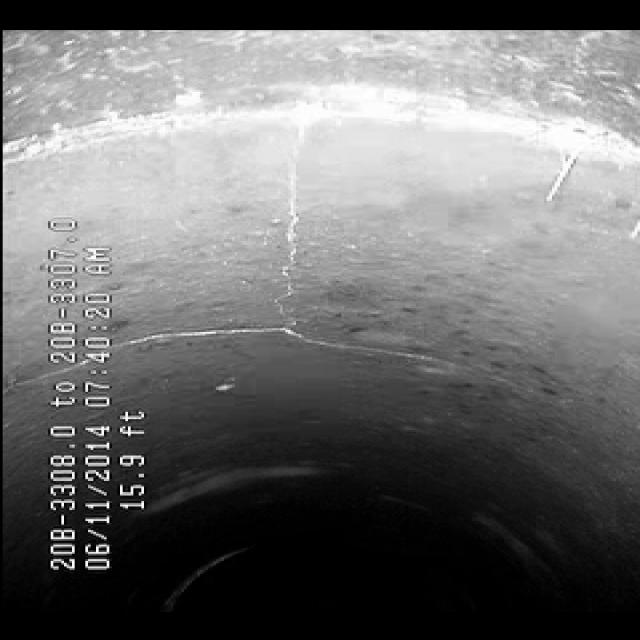Crack: (172, 141, 486, 378)
